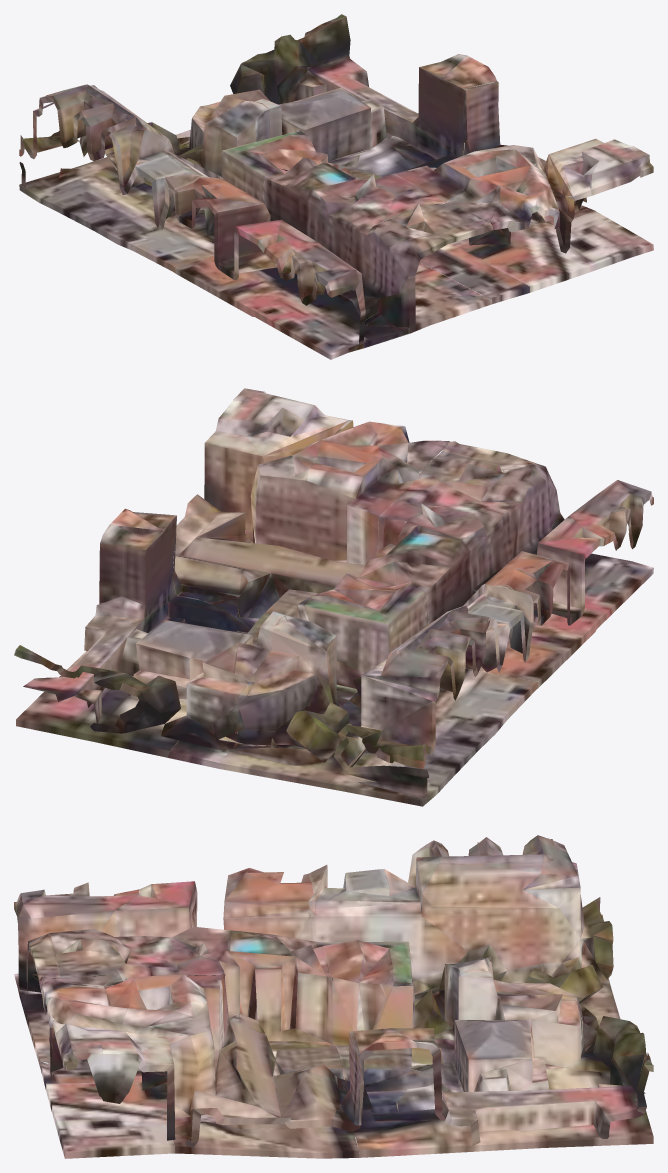
The picture shows the model from 3 angles, top to bottom: view 1: azimuth 30°, elevation 25°; view 2: azimuth 150°, elevation 25°; view 3: azimuth 270°, elevation 25°; orthographic projection. The views are drawn at different scales.
Visible parts, largest first — view 1: Mesh_0; view 2: Mesh_0; view 3: Mesh_0.
Part boxes in pixels (x1,y1,x2,y2): Mesh_0: (19,14,653,359); Mesh_0: (14,388,653,806); Mesh_0: (14,835,653,1158).
Size of the model in its own units: 135 by 37.13 by 165.
1 material, 1 textured.
